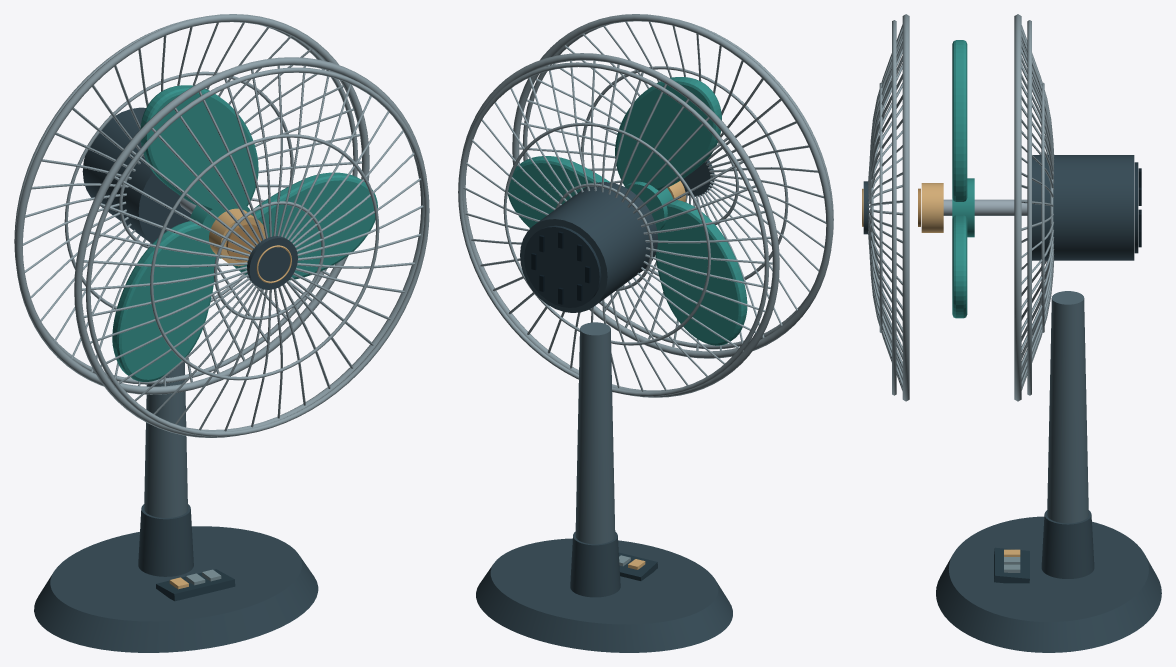
Rendered from fan-edu-v1.glb.
3 views of the same model, side by side, from view 1: azimuth 30°, elevation 25°; view 2: azimuth 150°, elevation 25°; view 3: azimuth 270°, elevation 25° (orthographic). The views are drawn at different scales.
Visible parts, largest first — view 1: front-guard, blade, base, rear-guard, stand, motor, cap; view 2: rear-guard, base, blade, front-guard, motor, stand; view 3: base, stand, motor, front-guard, rear-guard, blade, cap, shaft.
Boxes of the visible parts, x1=… form: front-guard: x1=74, y1=57, x2=429, y2=437; blade: x1=112, y1=85, x2=377, y2=381; base: x1=34, y1=526, x2=318, y2=652; rear-guard: x1=14, y1=14, x2=369, y2=394; stand: x1=138, y1=362, x2=193, y2=576; motor: x1=82, y1=107, x2=191, y2=243; cap: x1=209, y1=208, x2=265, y2=266; rear-guard: x1=458, y1=53, x2=779, y2=397; base: x1=476, y1=538, x2=732, y2=652; blade: x1=507, y1=77, x2=747, y2=345; front-guard: x1=512, y1=14, x2=833, y2=358; motor: x1=520, y1=182, x2=658, y2=312; stand: x1=570, y1=322, x2=620, y2=597; base: x1=936, y1=516, x2=1161, y2=652; stand: x1=1041, y1=291, x2=1094, y2=578; motor: x1=1032, y1=155, x2=1141, y2=260; front-guard: x1=862, y1=14, x2=909, y2=401; rear-guard: x1=1014, y1=14, x2=1054, y2=401; blade: x1=952, y1=40, x2=974, y2=318; cap: x1=918, y1=183, x2=943, y2=232; shaft: x1=943, y1=199, x2=1027, y2=215.
Bounding box in the file's own units: 2.64 × 4.21 × 2.04.
